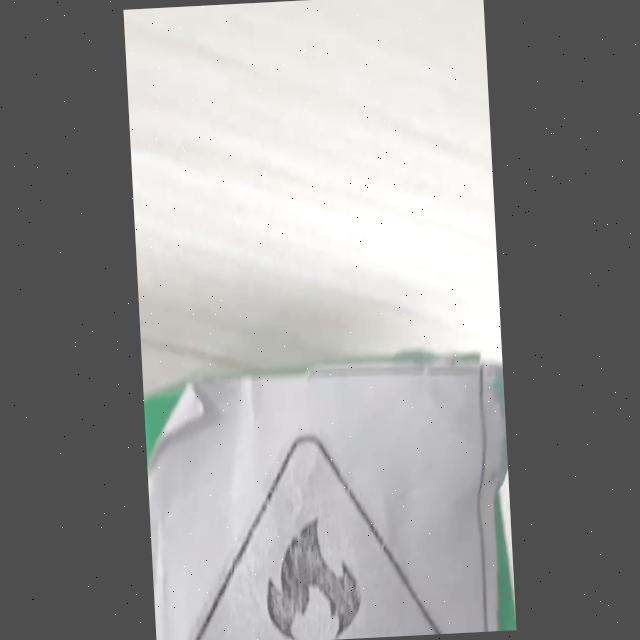Fire: (191, 434, 441, 640)
